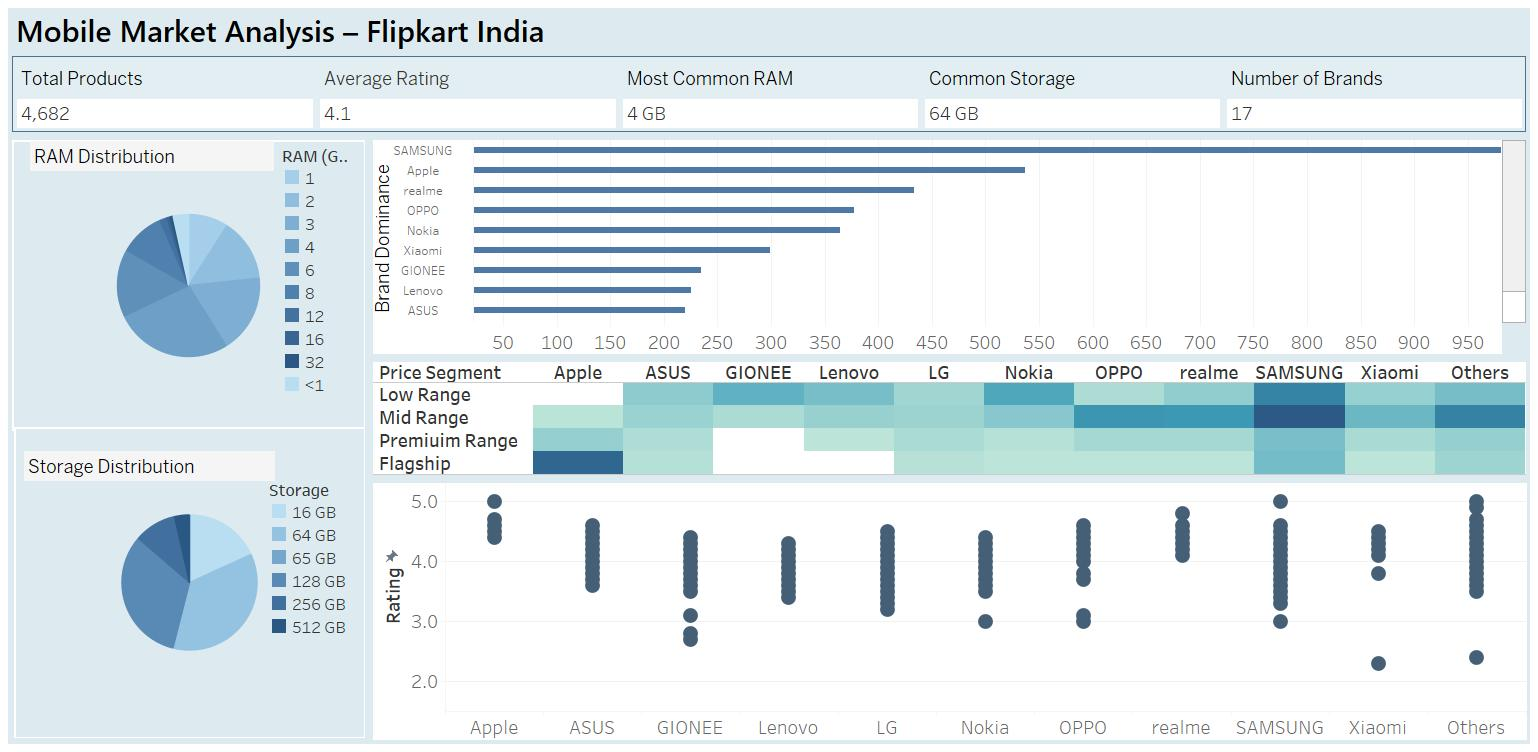

This screenshot's page, from the dashboard's own definition file:
{"tool":"tableau","page":{"name":"Dashboard 2","canvas":[1538,752],"ordinal":0},"visuals":[{"type":"title","box":[8,8,1522,44]},{"type":"worksheet","title":"Total  Products","mark":"Text","box":[13,57,303,74]},{"type":"worksheet","title":"Average Rating","mark":"Automatic","box":[316,57,303,74]},{"type":"worksheet","title":"Most Common RAM","mark":"Text","box":[619,57,302,74]},{"type":"worksheet","title":"Most Common Storage","mark":"Automatic","box":[921,57,302,74]},{"type":"worksheet","title":"Number of Brands","mark":"Automatic","box":[1223,57,302,74]},{"type":"text","box":[371,130,32,188]},{"type":"worksheet","title":"RAM Distribution Donut Chart","mark":"Pie","box":[8,136,361,299]},{"type":"worksheet","title":"Brand with Most Product Offerings","mark":"Automatic","cols":["Sheet1_3FF86A490EA44306B529E3F2D0AE2232"],"box":[369,136,1161,221.9]},{"type":"text","box":[30,141,244,30]},{"type":"legend","title":"RAM Distribution Donut Chart","param":"[federated.1rmodjs111z1ud0zpusa31uy97dt].[RAM (GB) (group)]","box":[281,143,70,288]},{"type":"worksheet","title":"Brand Catering to All Segments","mark":"Square","rows":["Calculation_605734169333362688"],"box":[369,357.9,1161,121.2]},{"type":"worksheet","title":"Storage(GB)","mark":"Pie","box":[14,427,351,311]},{"type":"text","box":[24,451,251,30]},{"type":"legend","title":"Storage(GB)","param":"[federated.1rmodjs111z1ud0zpusa31uy97dt].[Storage (group)]","box":[268,477,99,266]},{"type":"worksheet","title":"Rating","mark":"Circle","rows":["Rating"],"box":[369,479.1,1161,264.9]}]}

Visuals, with their boxes in screenshot pixels (x1, y1, x2, y2), scaled from the page's 1538x752 canvas onto the 1538x752 screenshot:
title: 8/8/1530/52
"Total  Products" worksheet (Text marks): 13/57/316/131
"Average Rating" worksheet: 316/57/619/131
"Most Common RAM" worksheet (Text marks): 619/57/921/131
"Most Common Storage" worksheet: 921/57/1223/131
"Number of Brands" worksheet: 1223/57/1525/131
text: 371/130/403/318
"RAM Distribution Donut Chart" worksheet (Pie marks): 8/136/369/435
"Brand with Most Product Offerings" worksheet: 369/136/1530/358
text: 30/141/274/171
"RAM Distribution Donut Chart" legend: 281/143/351/431
"Brand Catering to All Segments" worksheet (Square marks): 369/358/1530/479
"Storage(GB)" worksheet (Pie marks): 14/427/365/738
text: 24/451/275/481
"Storage(GB)" legend: 268/477/367/743
"Rating" worksheet (Circle marks): 369/479/1530/744
